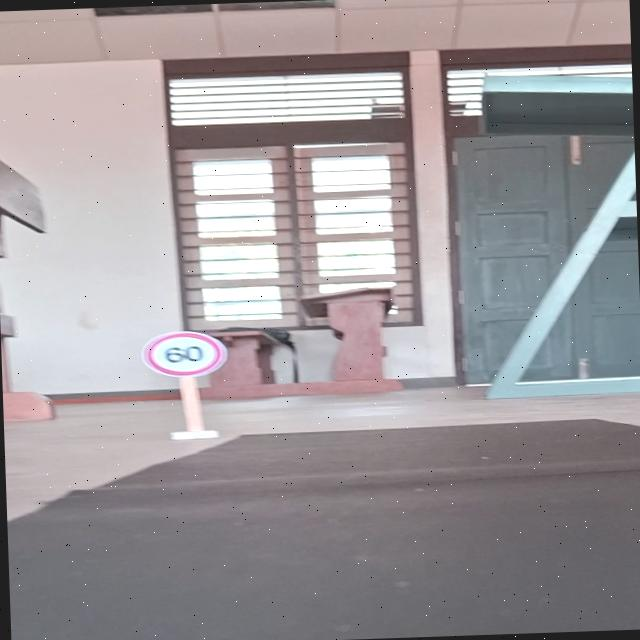Speed60: (134, 328, 231, 380)
